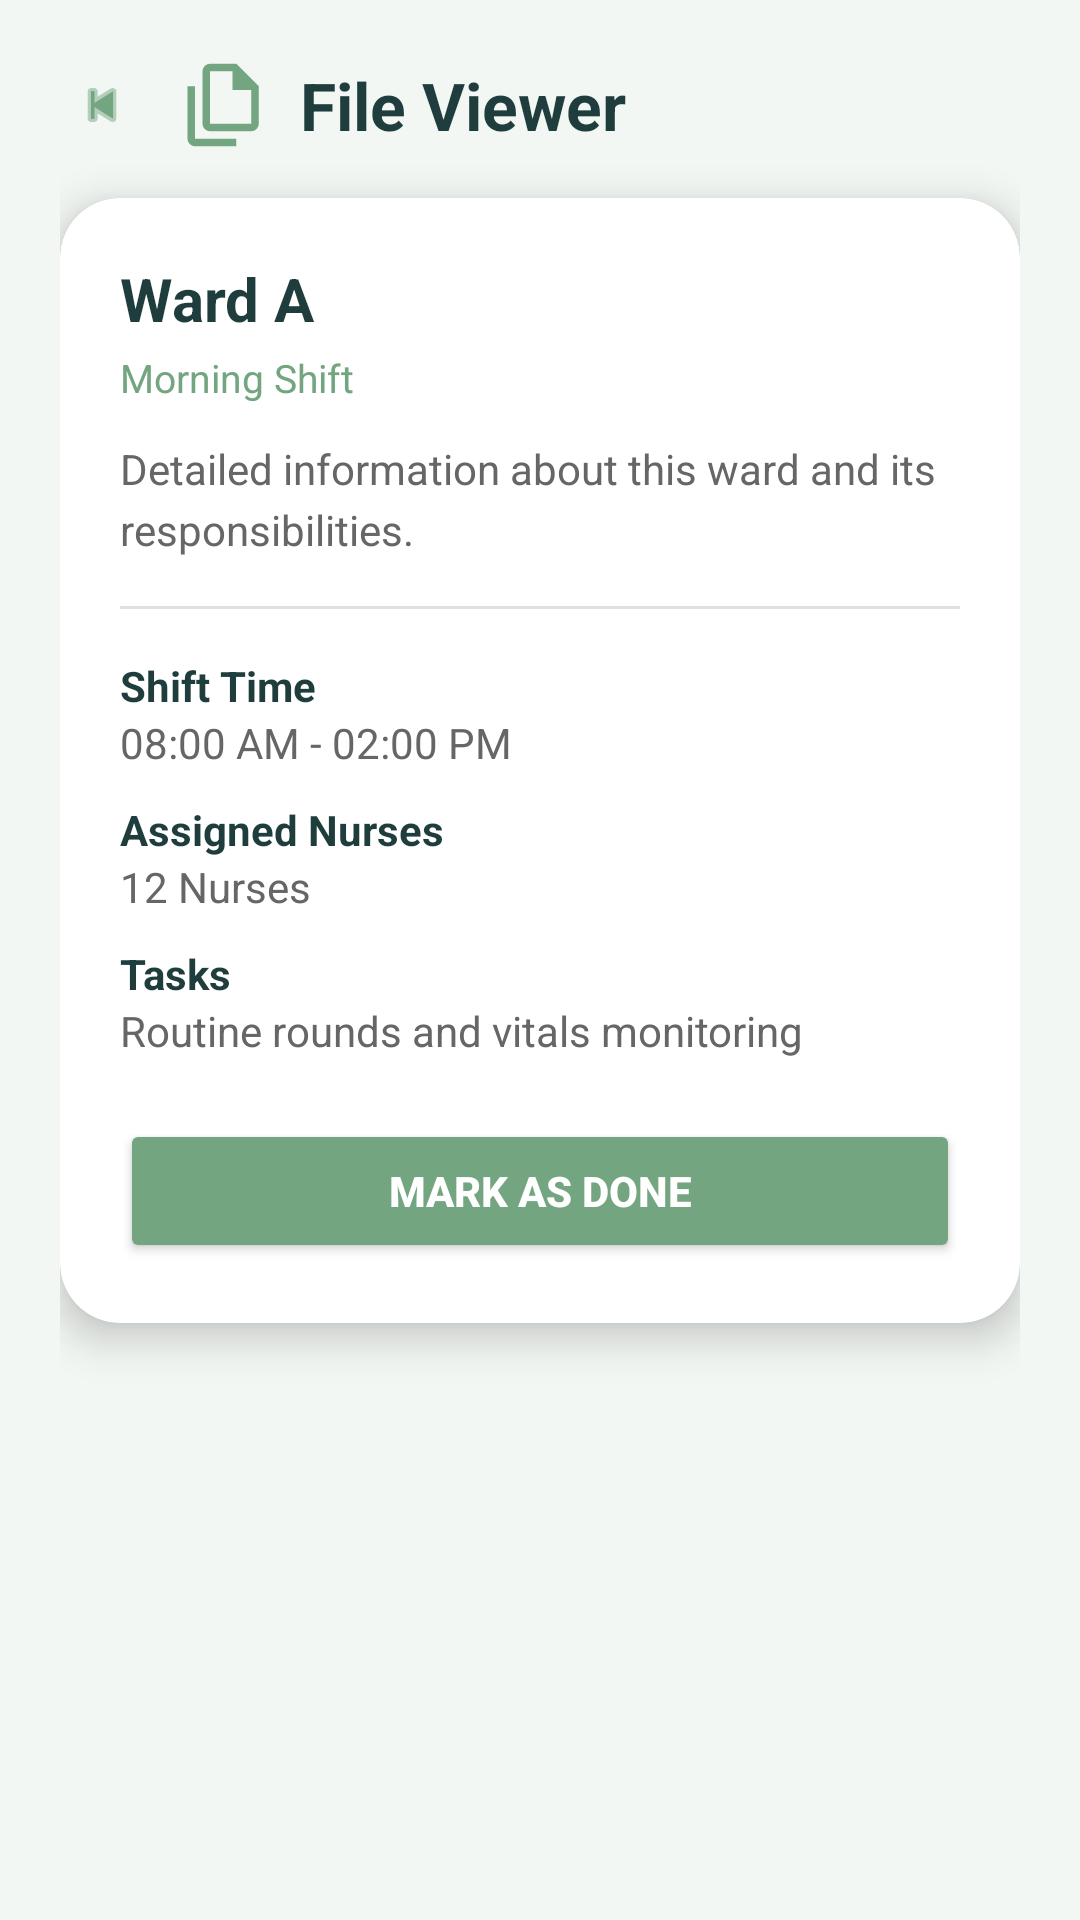

Screen size 1080x1920. Icon name, then its center in pixels as (x=x, y=y):
Back: (x=102, y=105)
